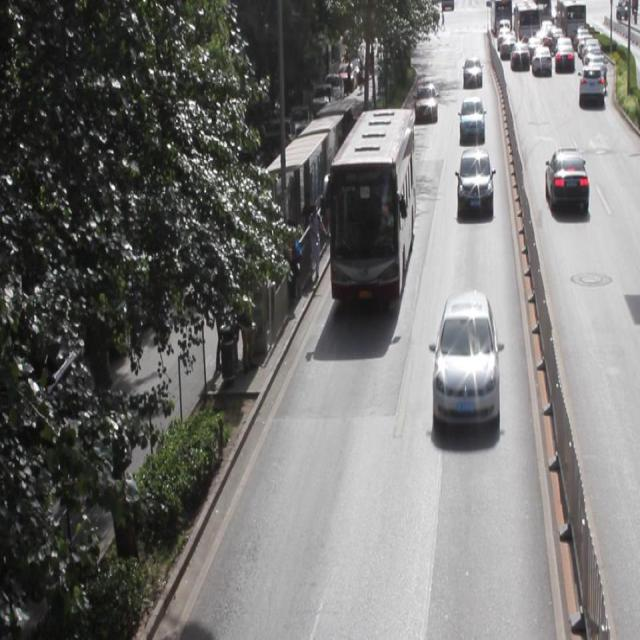car: (431, 288, 497, 425), (544, 146, 587, 210), (456, 146, 492, 212), (457, 96, 485, 140), (413, 81, 437, 124)
van: (328, 107, 413, 296)
